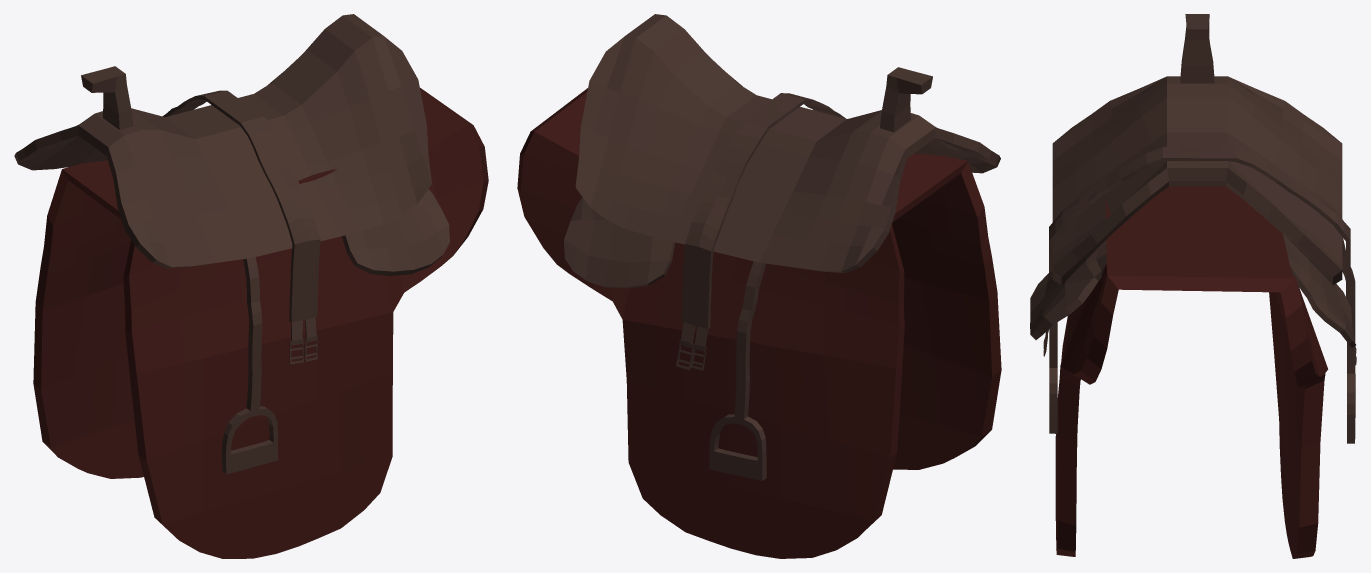
The model's file is Sella 2.fbx.
The picture shows the model from 3 angles, left to right: view 1: azimuth 30°, elevation 25°; view 2: azimuth 150°, elevation 25°; view 3: azimuth 270°, elevation 25°; orthographic projection.
Visible parts, largest first — view 1: Plane.004; view 2: Plane.004; view 3: Plane.004.
Part boxes in pixels (x1,y1,x2,y2): Plane.004: (14,14,488,558); Plane.004: (517,14,1001,558); Plane.004: (1030,14,1356,558).
Size of the model in its own units: 125 by 148 by 94.63.
